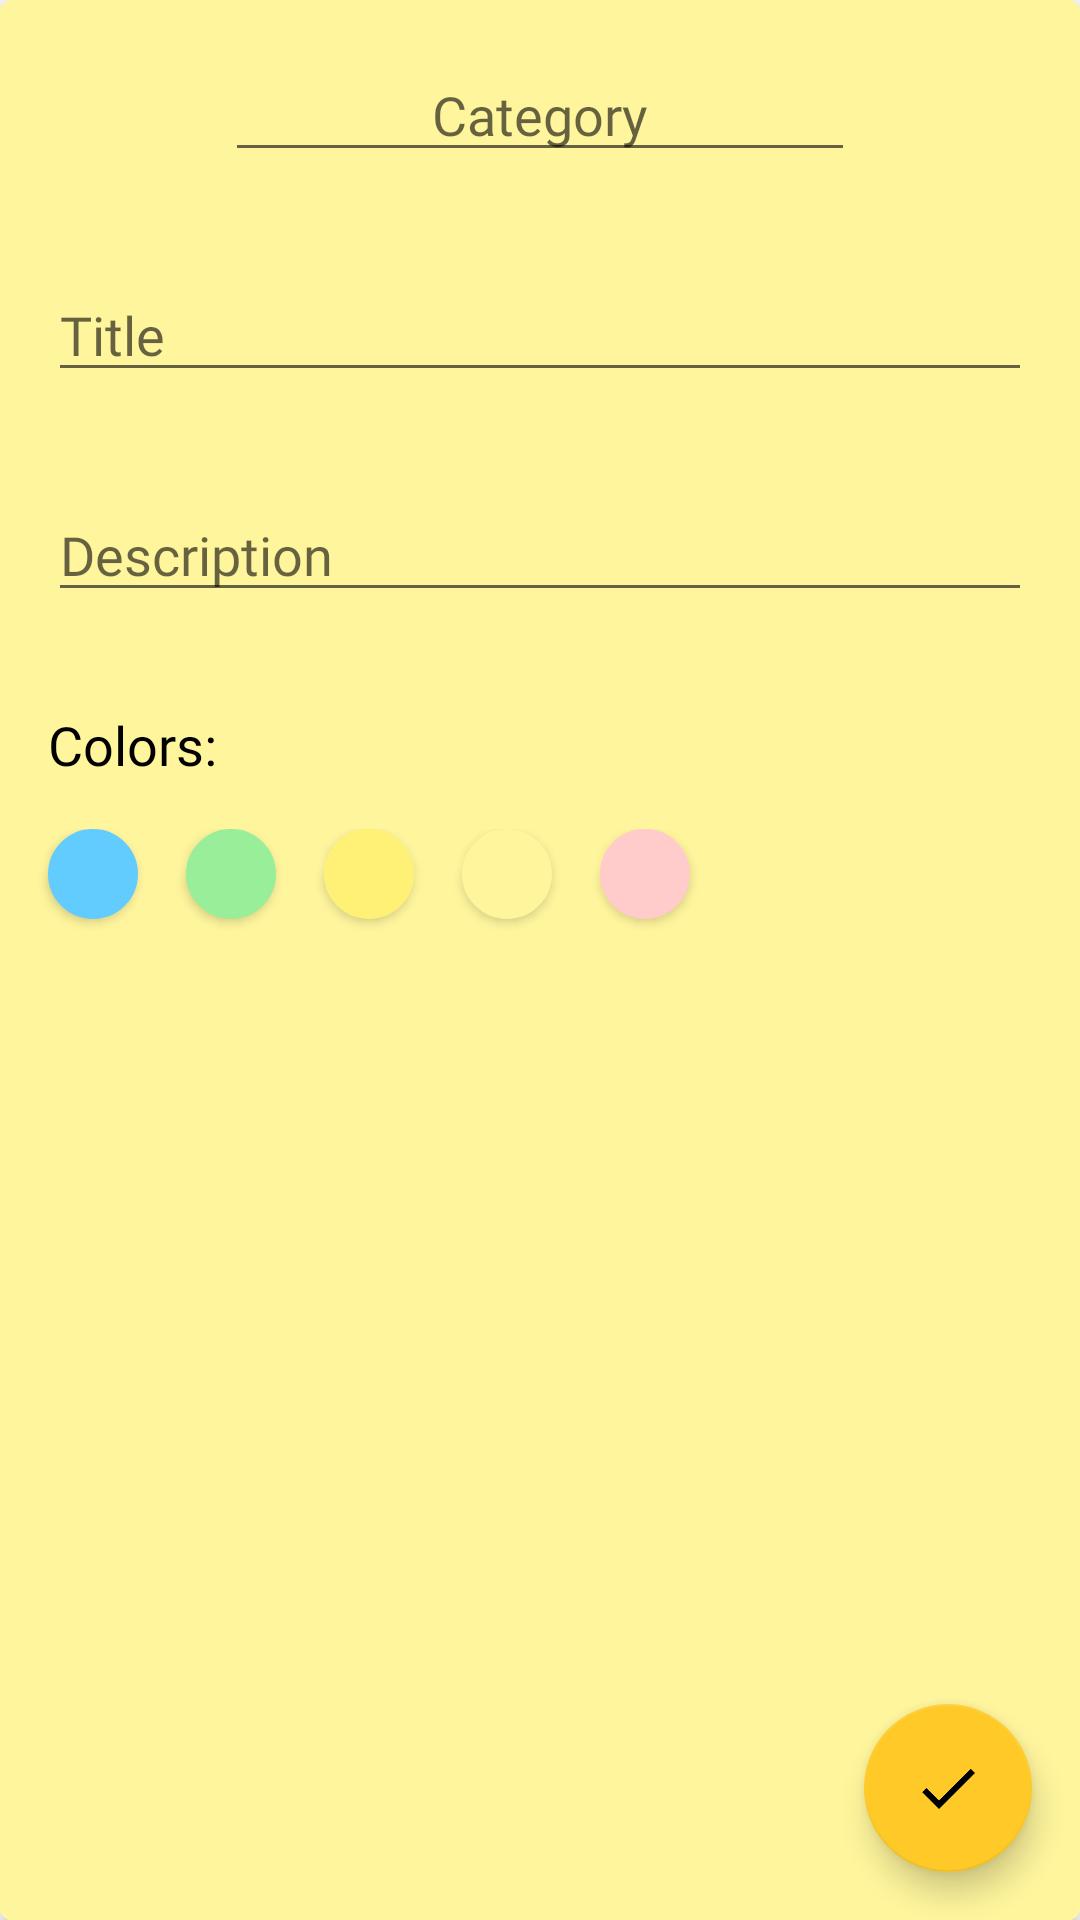

Icon bounding boxes for this 1080x1920 phone screenshot, format (x1, y1, x2, y2):
Save Note: (864, 1704, 1032, 1872)
